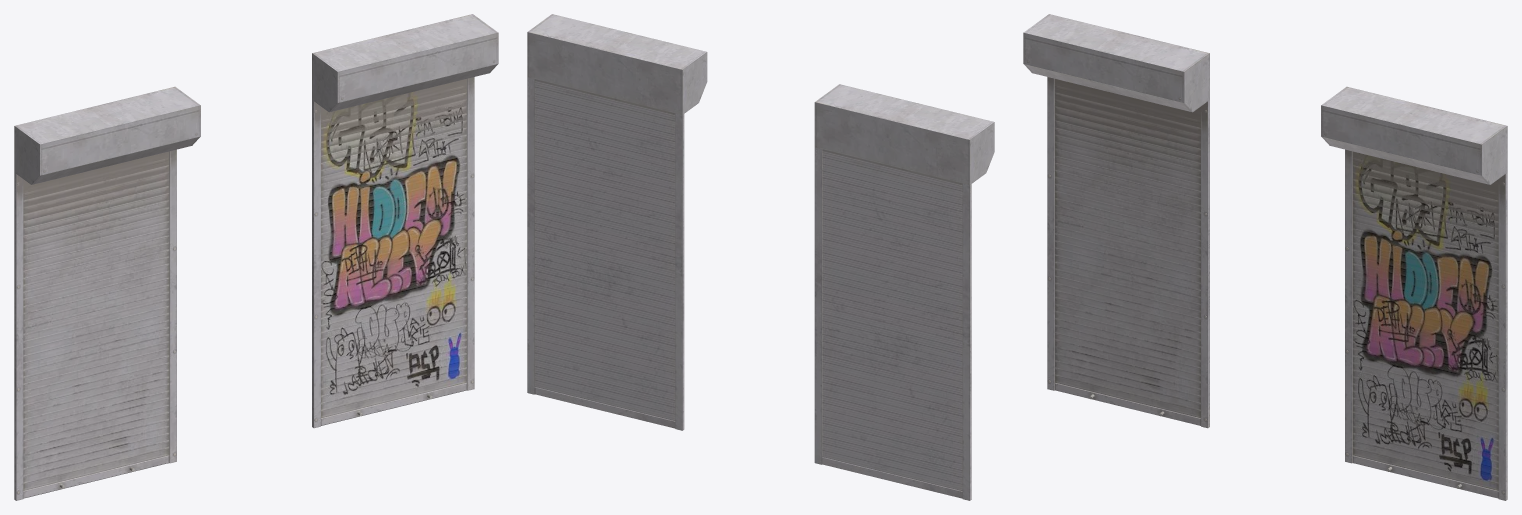
File: shutter.glb
3 views of the same model, side by side, from view 1: azimuth 30°, elevation 25°; view 2: azimuth 150°, elevation 25°; view 3: azimuth 330°, elevation 25° (orthographic). The views are drawn at different scales.
Parts seen in each view (by area): view 1: rollershutter_door, rollershutter_door_graffiti; view 2: rollershutter_door, rollershutter_door_graffiti; view 3: rollershutter_door_graffiti, rollershutter_door.
Part boxes in pixels (x1=…): rollershutter_door: x1=14, y1=86, x2=200, y2=500; rollershutter_door_graffiti: x1=312, y1=14, x2=498, y2=428; rollershutter_door: x1=814, y1=84, x2=994, y2=500; rollershutter_door_graffiti: x1=527, y1=14, x2=707, y2=430; rollershutter_door_graffiti: x1=1321, y1=86, x2=1507, y2=500; rollershutter_door: x1=1023, y1=14, x2=1209, y2=428.
Size of the model in its own units: 3.08 by 2.4 by 0.3001.
2 materials, 2 textured.
